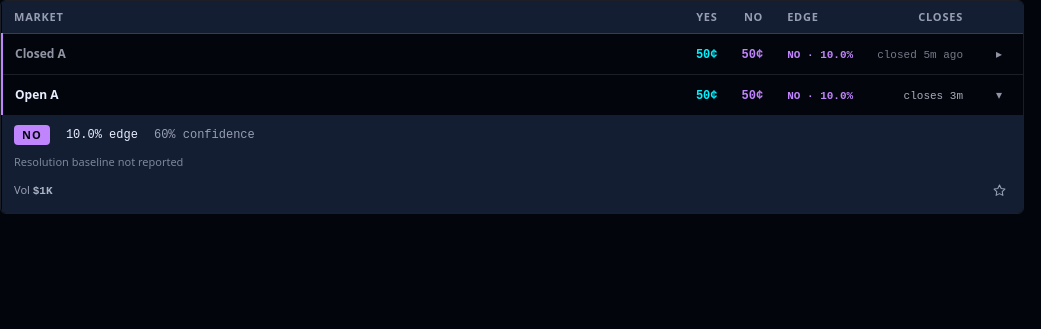
Test: EngineLedger default expansion prefers an open window › closed edge-bearing rows remain manually expandable
The image size is (1041, 329).
Click the button "▸".
click(999, 54)  # box [987, 42, 1011, 66]
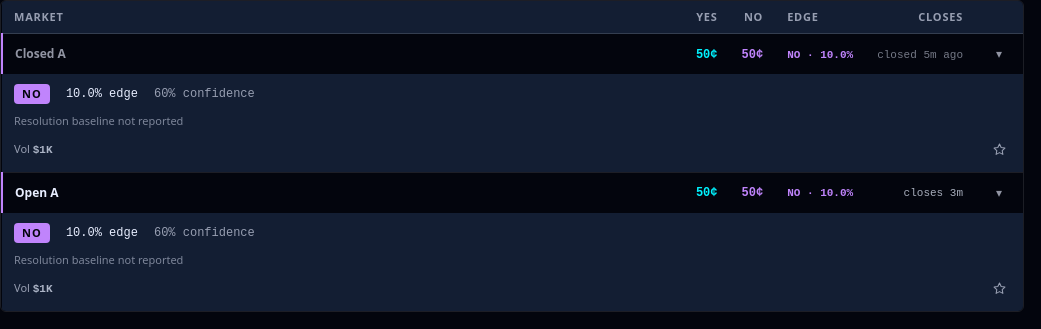
Now the button "▾" in the row of "Closed A" is expanded, box [987, 42, 1011, 66]
